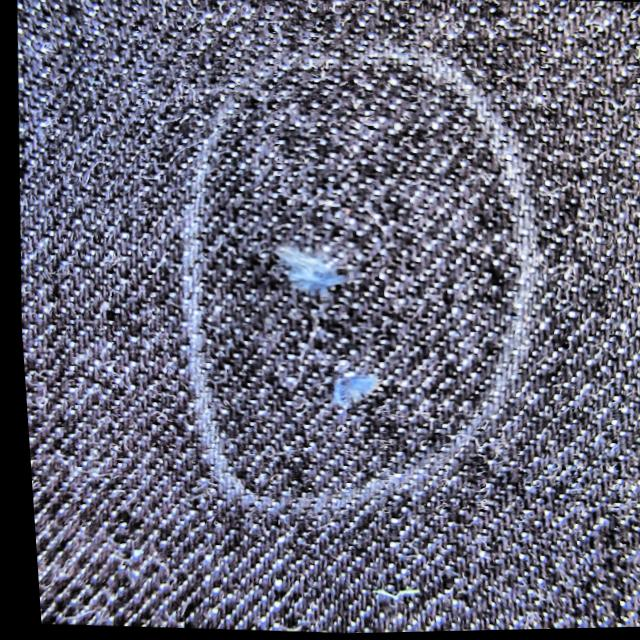Hole: (246, 222, 361, 313), (300, 360, 406, 425)
